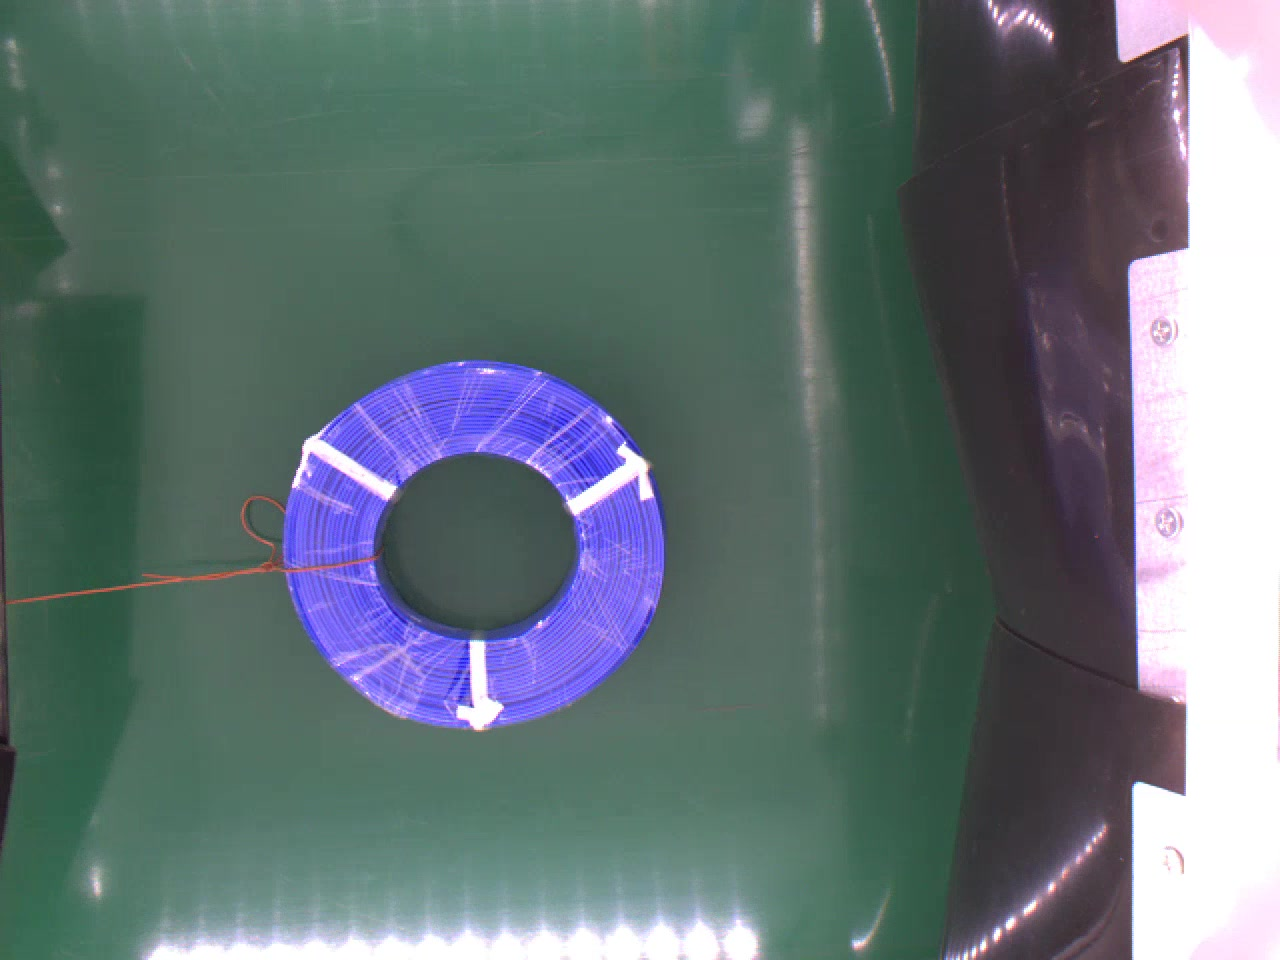blue: (277, 359, 671, 731)
